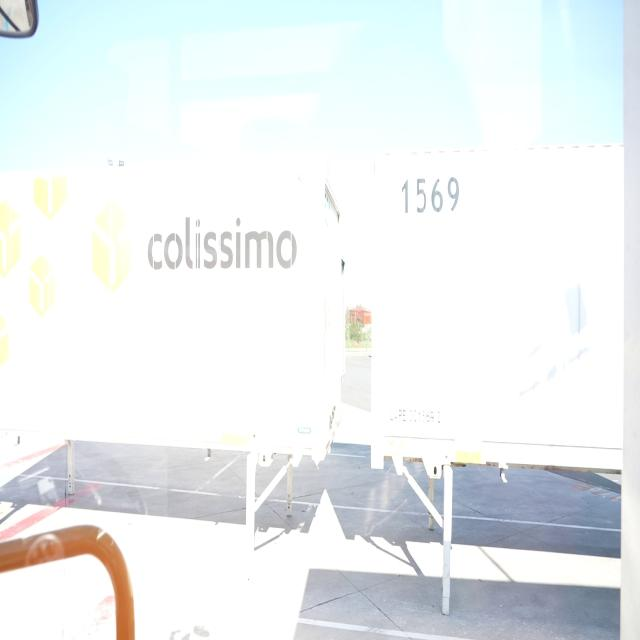Code: (399, 173, 466, 220)
